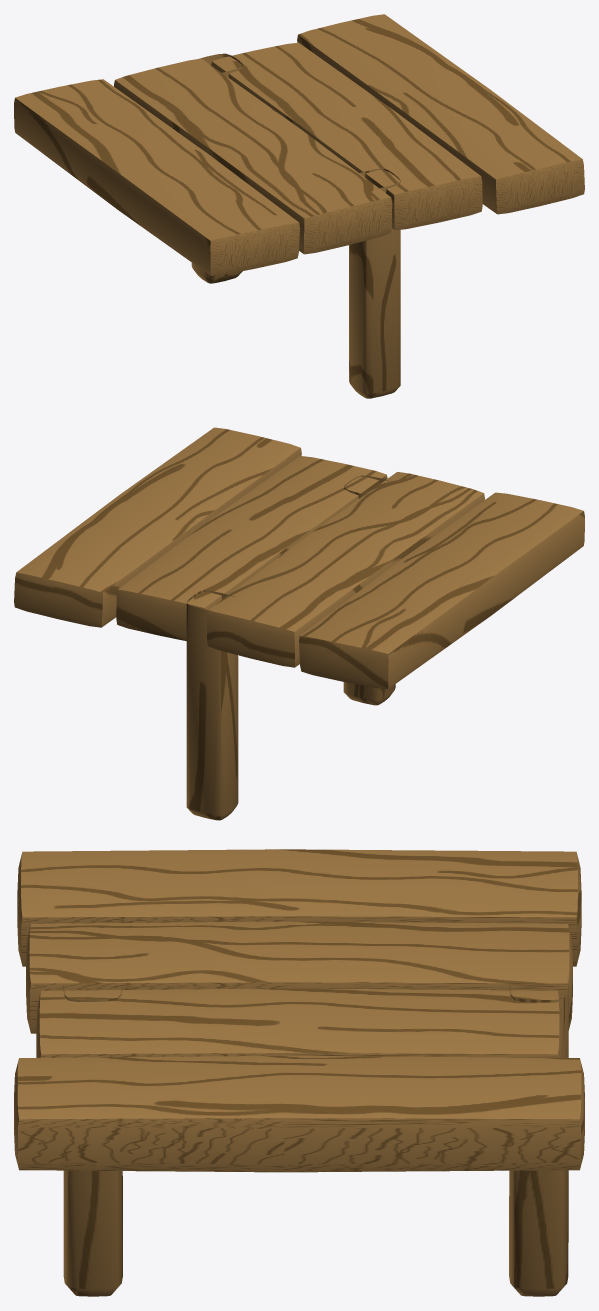
The model's file is bridge.obj.
3 views of the same model, one above another, from view 1: azimuth 30°, elevation 25°; view 2: azimuth 150°, elevation 25°; view 3: azimuth 270°, elevation 25° (orthographic). The views are drawn at different scales.
Parts seen in each view (by area): view 1: bridge_Cube.054; view 2: bridge_Cube.054; view 3: bridge_Cube.054.
Boxes of the visible parts, x1,y1,x2,y2 form: bridge_Cube.054: [14, 14, 584, 398]; bridge_Cube.054: [14, 427, 584, 820]; bridge_Cube.054: [14, 849, 584, 1296].
Size of the model in its own units: 1.91 by 1.05 by 1.76.
Materials: 1 (1 with a texture image).
